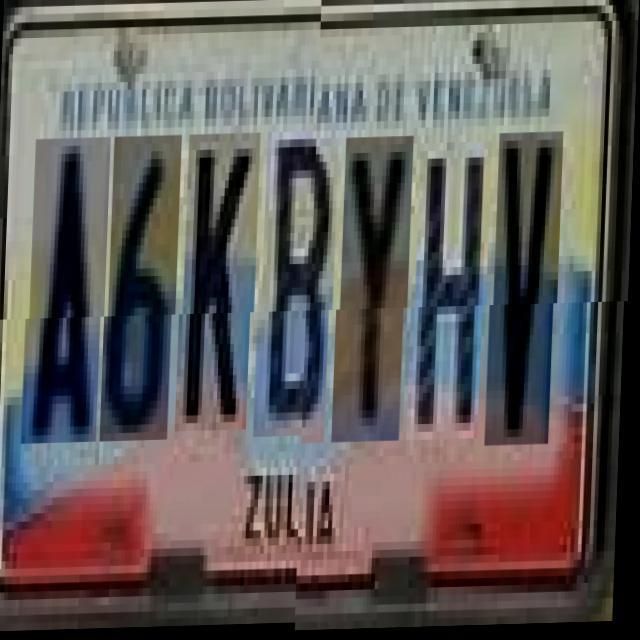6: (107, 144, 183, 450)
A: (28, 146, 112, 452)
B: (260, 140, 340, 447)
H: (413, 144, 493, 442)
K: (182, 142, 262, 440)
V: (492, 136, 564, 448)
Y: (339, 138, 415, 444)
